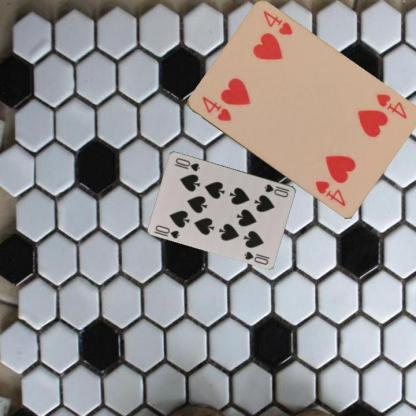10s: (153, 222, 181, 240), (262, 181, 289, 199)
4h: (373, 91, 408, 121), (199, 94, 232, 123)
